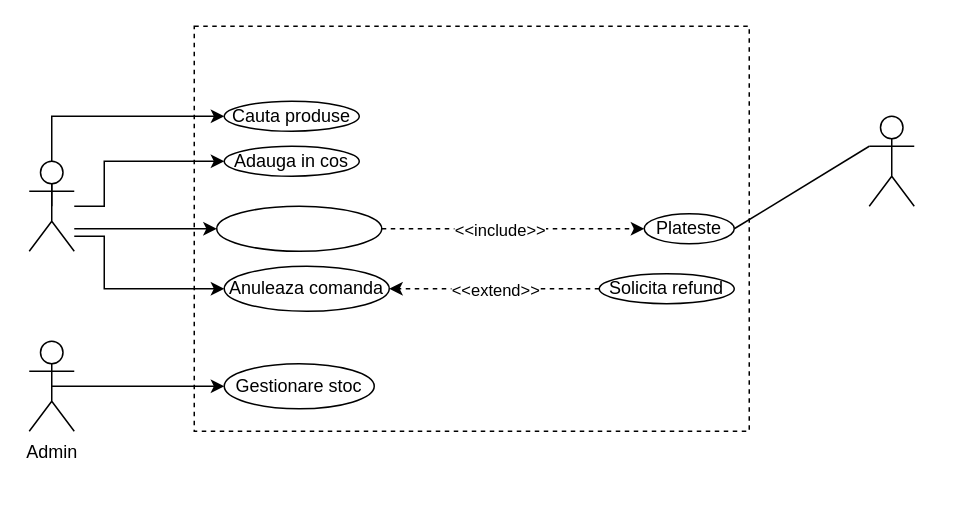
The diagram is 977 pixels wide and 512 high, and some of its shapes have lost their labels. Each missing label, with the centre of its shape:
Client: [51,205]
Plaseaza comanda: [298,228]
Sistem de plati: [891,160]
